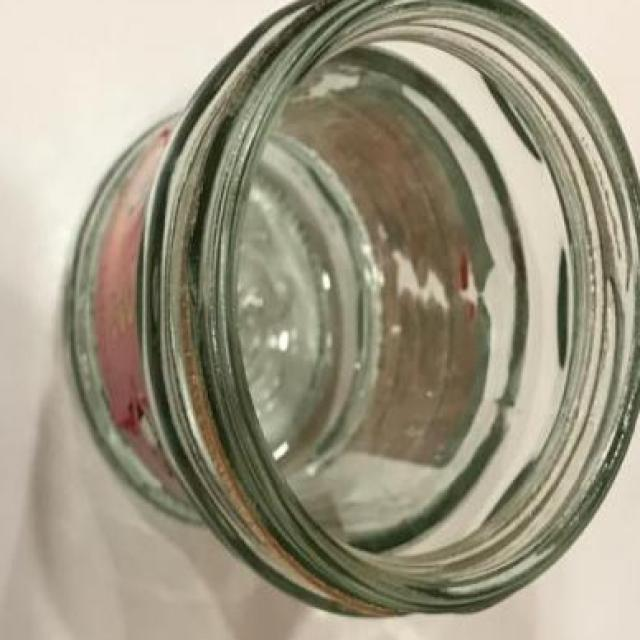kaca: (63, 0, 640, 618)
